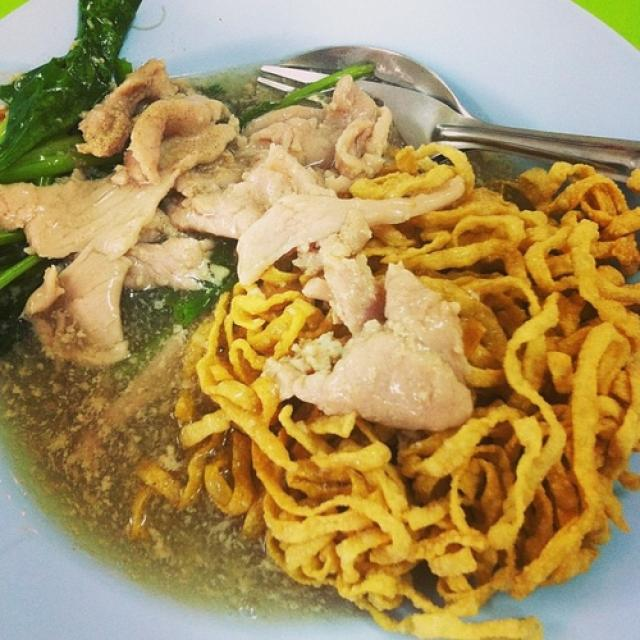面条主食: (23, 48, 626, 586)
